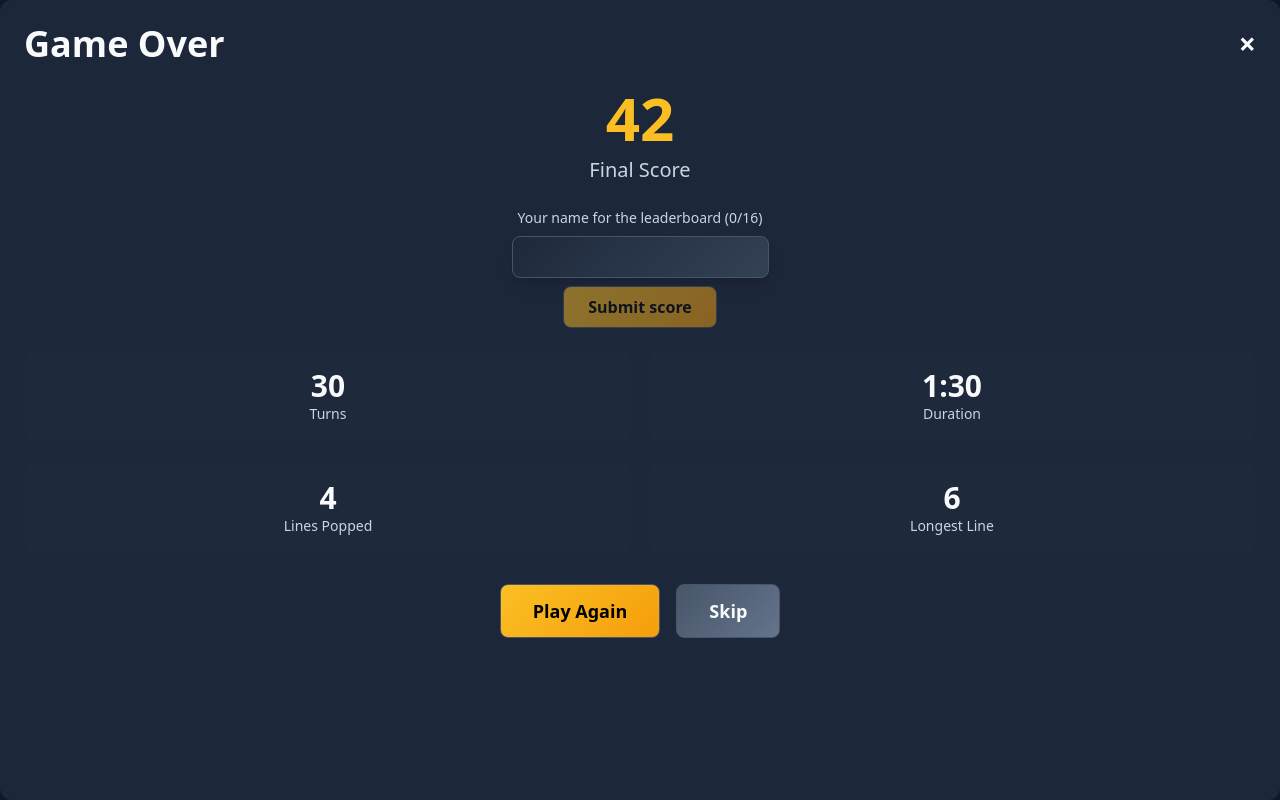
Test: GameEndDialog submission section › idle: a profane name disables submit with the generic message
Type "admin" into the field labelled "Your name for the leaderboard (0/16)" at (640, 257), box x1=512 y1=236 x2=768 y2=278
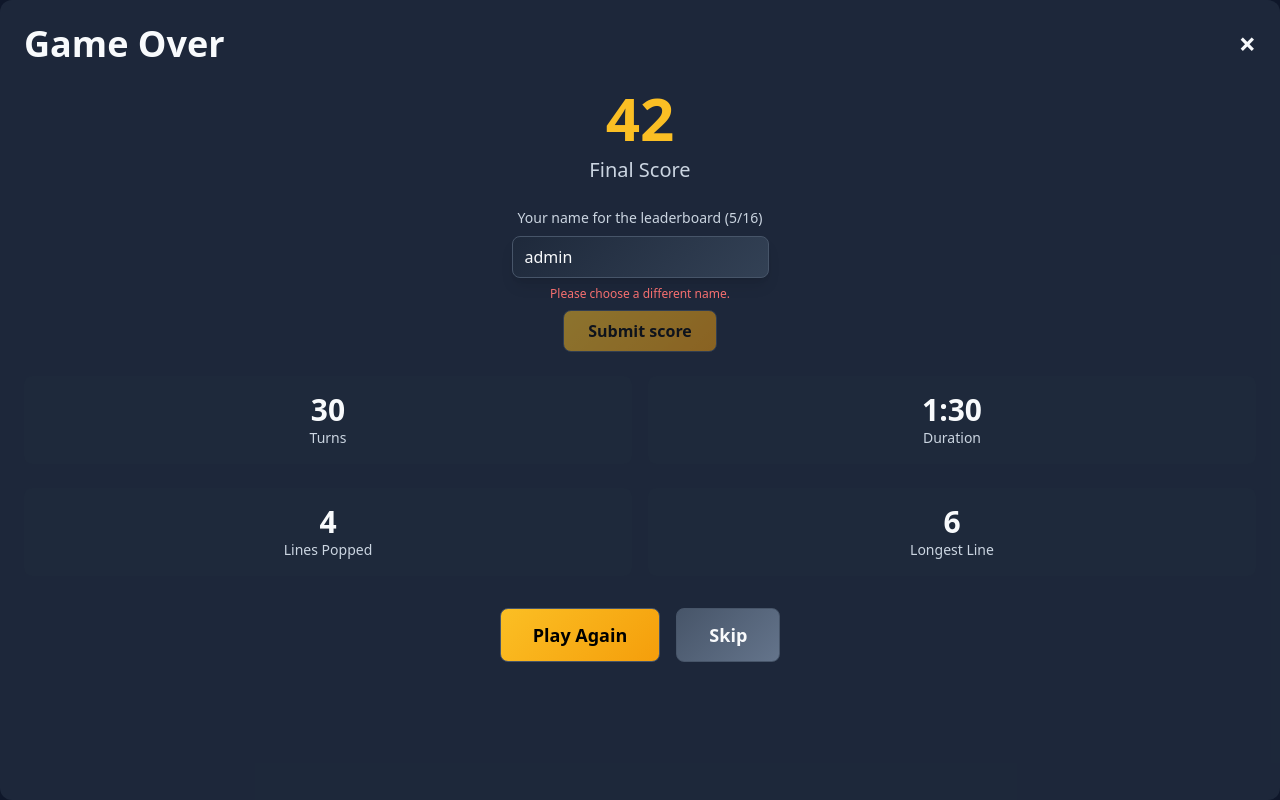
Expected: the button with test id "submit-score" is disabled, x1=563 y1=310 x2=717 y2=352
Result: the text "Please choose a different name." is shown at x1=550 y1=286 x2=730 y2=302
